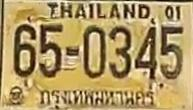0: (82, 24, 105, 77)
3: (108, 25, 131, 77)
4: (134, 25, 156, 78)
5: (38, 22, 62, 76), (160, 25, 182, 78)
6: (13, 23, 36, 76)
BKK: (35, 82, 161, 110)
